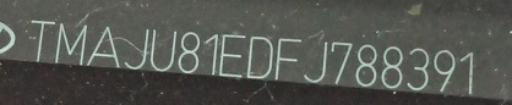letter: (87, 25, 121, 70), (272, 36, 302, 83), (377, 45, 407, 92), (120, 26, 150, 71), (149, 28, 177, 75), (219, 32, 247, 79), (246, 34, 274, 81), (56, 22, 86, 65), (404, 48, 432, 93), (354, 40, 378, 91), (304, 40, 330, 87), (430, 48, 456, 95), (329, 39, 353, 86), (30, 16, 54, 61), (178, 29, 200, 74), (456, 52, 478, 95), (201, 31, 219, 78)
